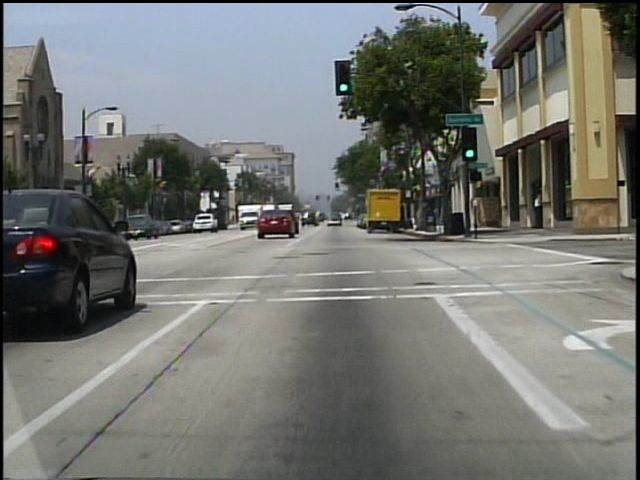person: (533, 194, 542, 229)
